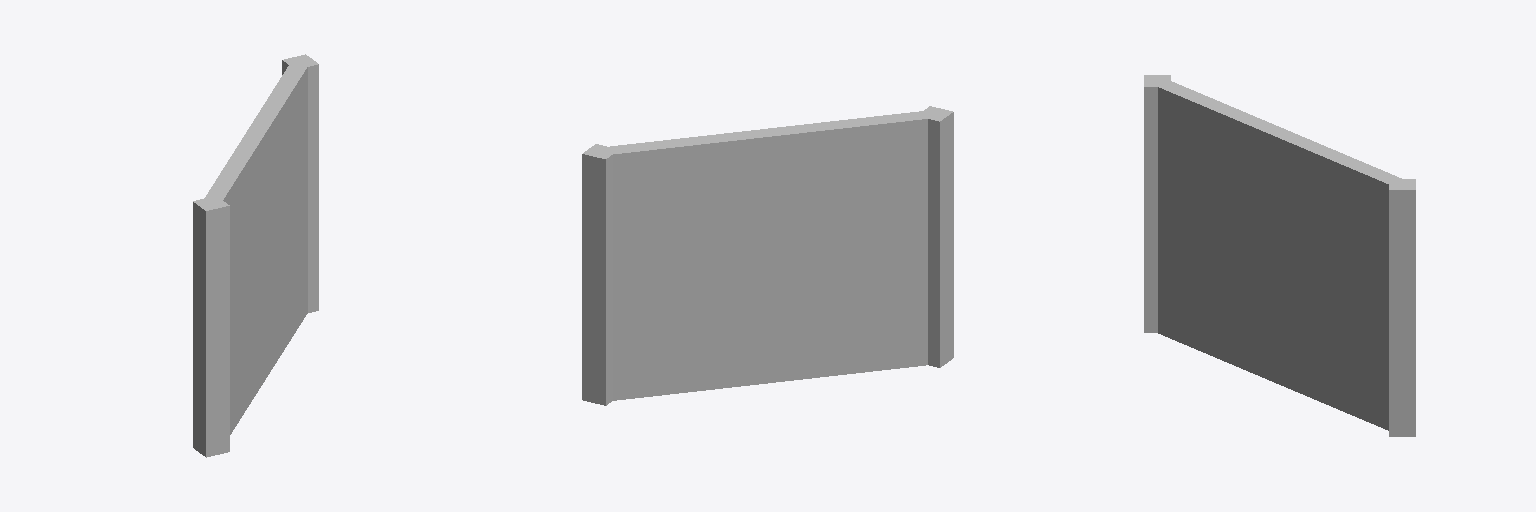
The model's file is wallWoodDiagonal.obj.
The picture shows the model from 3 angles: view 1: azimuth 30°, elevation 25°; view 2: azimuth 150°, elevation 25°; view 3: azimuth 270°, elevation 25°; orthographic projection.
Parts seen in each view (by area): view 1: wallWoodDiagonal; view 2: wallWoodDiagonal; view 3: wallWoodDiagonal.
Part boxes in pixels (x1,y1,x2,y2): wallWoodDiagonal: (193, 54, 318, 457); wallWoodDiagonal: (582, 106, 953, 405); wallWoodDiagonal: (1144, 75, 1415, 436).
Bounding box in the file's own units: 1 × 1 × 1.